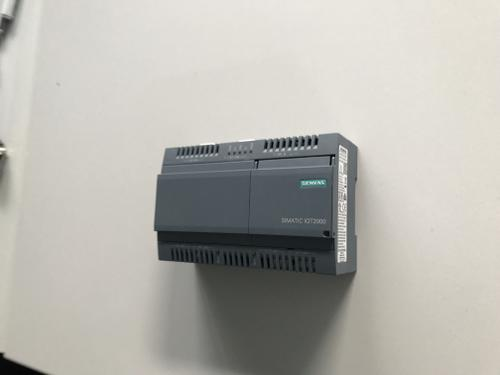device: (154, 133, 357, 277)
